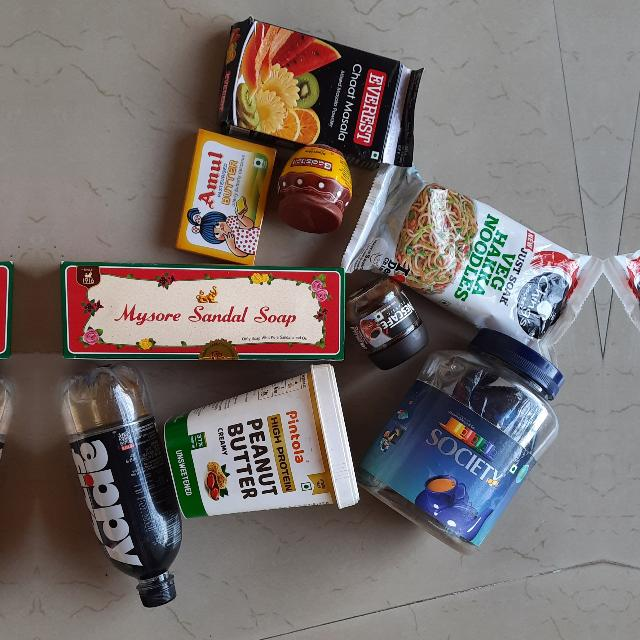Amul Butter: (174, 128, 272, 266)
Badshah Afgani Hing: (276, 140, 360, 230)
Chings Secret Veg Hakka Noodles 140 g Pouch: (345, 164, 599, 360)
Everest Pav Bhaji Masala 100 g: (220, 14, 418, 168)
Mysore Sandal Soap 150 g -Pack of 3-: (58, 258, 348, 364)
Nescafe Classic Instant Coffee 24 g: (344, 280, 432, 370)
Pintola High Protein Peanut Butter-510 gm-: (168, 364, 360, 522)
Society Leaf Tea 250g Jar: (363, 330, 564, 550)
appy fizz apple juice -250 ml-: (53, 367, 185, 605)
